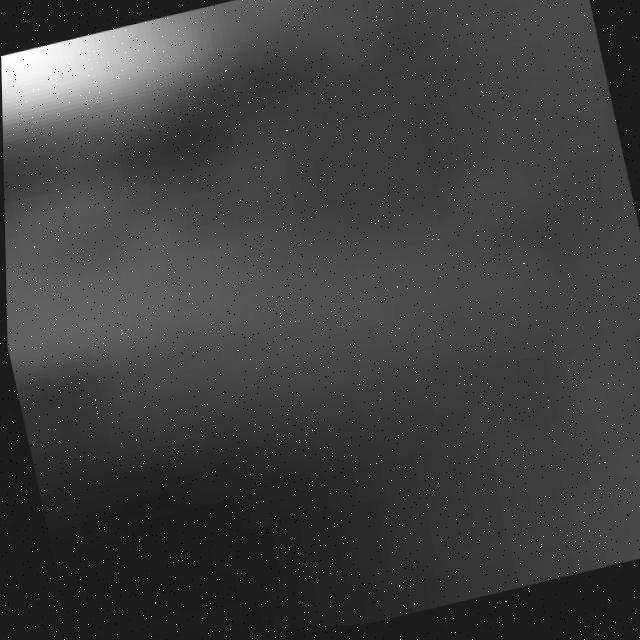person: (1, 1, 290, 152)
